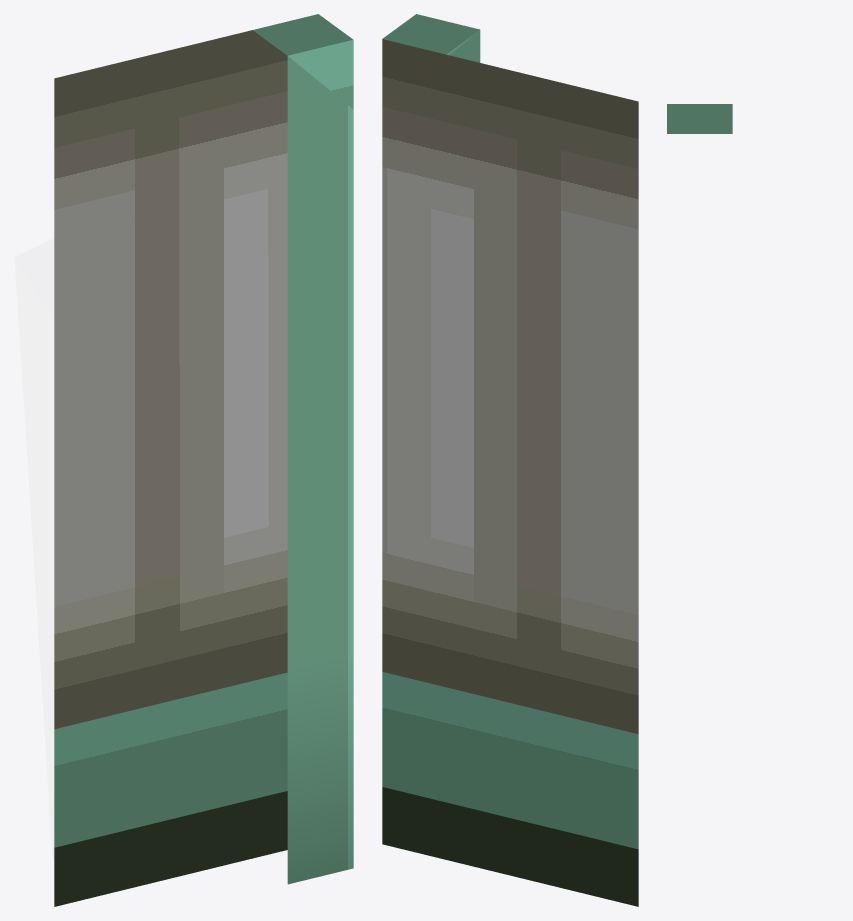
The picture shows the model from 3 angles, left to right: view 1: azimuth 30°, elevation 25°; view 2: azimuth 150°, elevation 25°; view 3: azimuth 270°, elevation 25°; orthographic projection. The views are drawn at different scales.
Bounding box in the file's own units: 1 × 3 × 0.6045.
2 materials, 2 textured.
